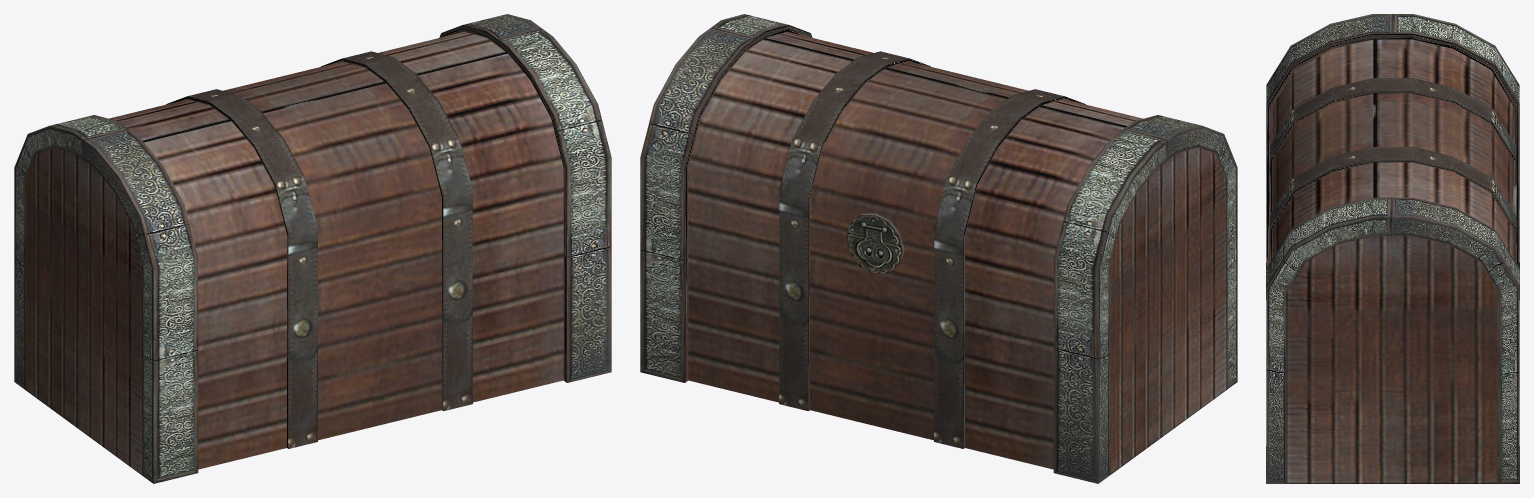
Rendered from chest2.obj.
The picture shows the model from 3 angles, left to right: view 1: azimuth 30°, elevation 25°; view 2: azimuth 150°, elevation 25°; view 3: azimuth 270°, elevation 25°; orthographic projection. The views are drawn at different scales.
Parts seen in each view (by area): view 1: treasure_chest.002; view 2: treasure_chest.002; view 3: treasure_chest.002.
Boxes of the visible parts, x1,y1,x2,y2 form: treasure_chest.002: (14,14,611,483); treasure_chest.002: (640,14,1237,483); treasure_chest.002: (1266,14,1519,483).
Size of the model in its own units: 1.15 by 0.7035 by 0.6069.
1 material, 1 textured.
